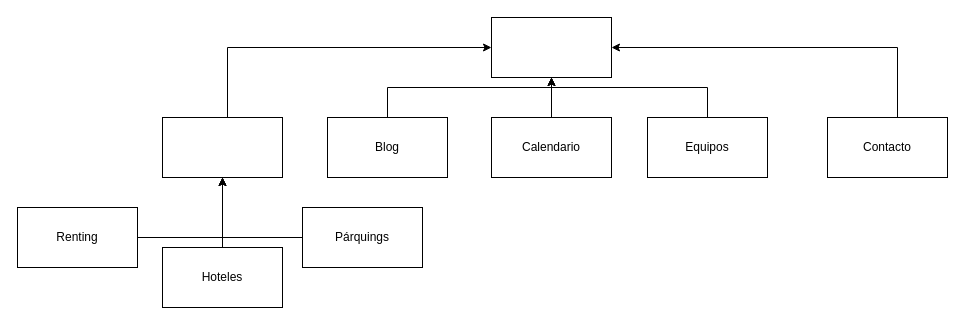
The diagram is 965 pixels wide and 325 high, and some of its shapes have lost their labels. Each missing label, with the box of its shape:
HOME: (490, 16, 612, 78)
Servicios: (162, 116, 282, 178)
